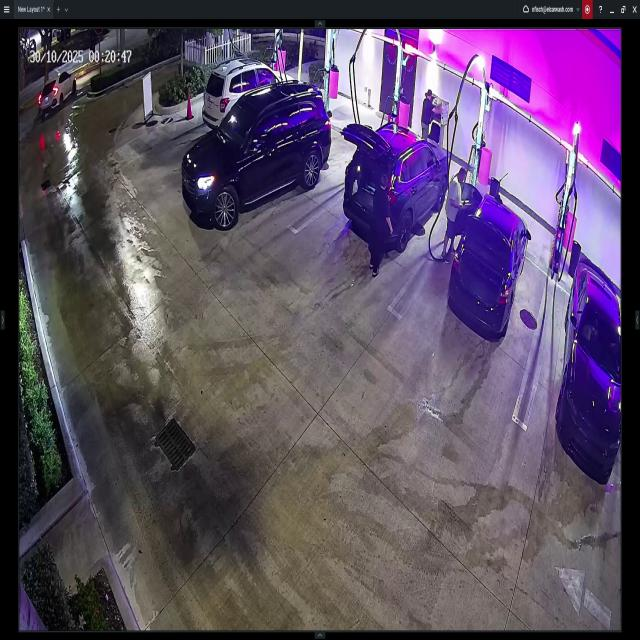Car: (182, 80, 332, 221), (558, 258, 622, 478), (342, 116, 448, 245), (448, 174, 528, 343), (201, 59, 298, 124), (39, 71, 79, 115)
